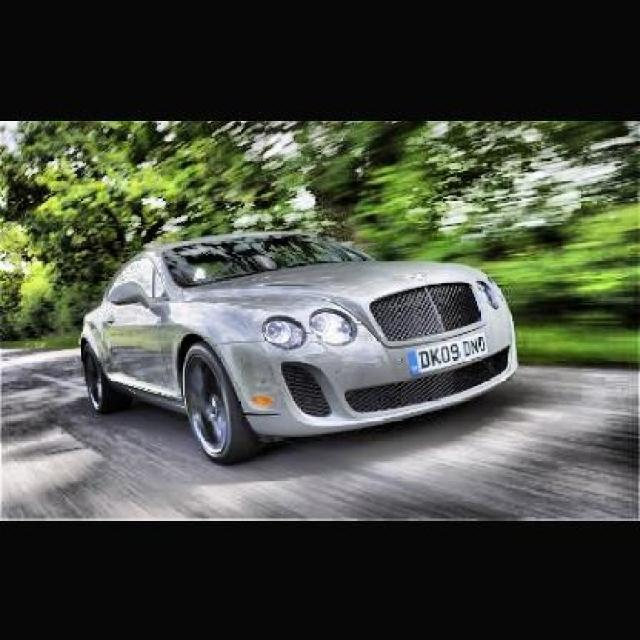silver: (78, 227, 515, 465)
